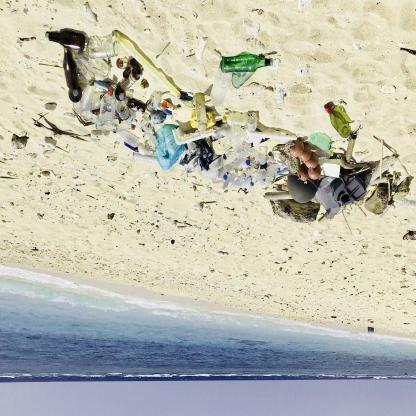Plastic: (283, 140, 371, 212), (321, 99, 358, 139), (217, 51, 277, 75), (58, 47, 81, 102), (155, 126, 183, 169), (43, 27, 88, 49), (94, 86, 117, 129), (76, 37, 117, 59), (190, 89, 210, 132), (221, 110, 259, 130)
